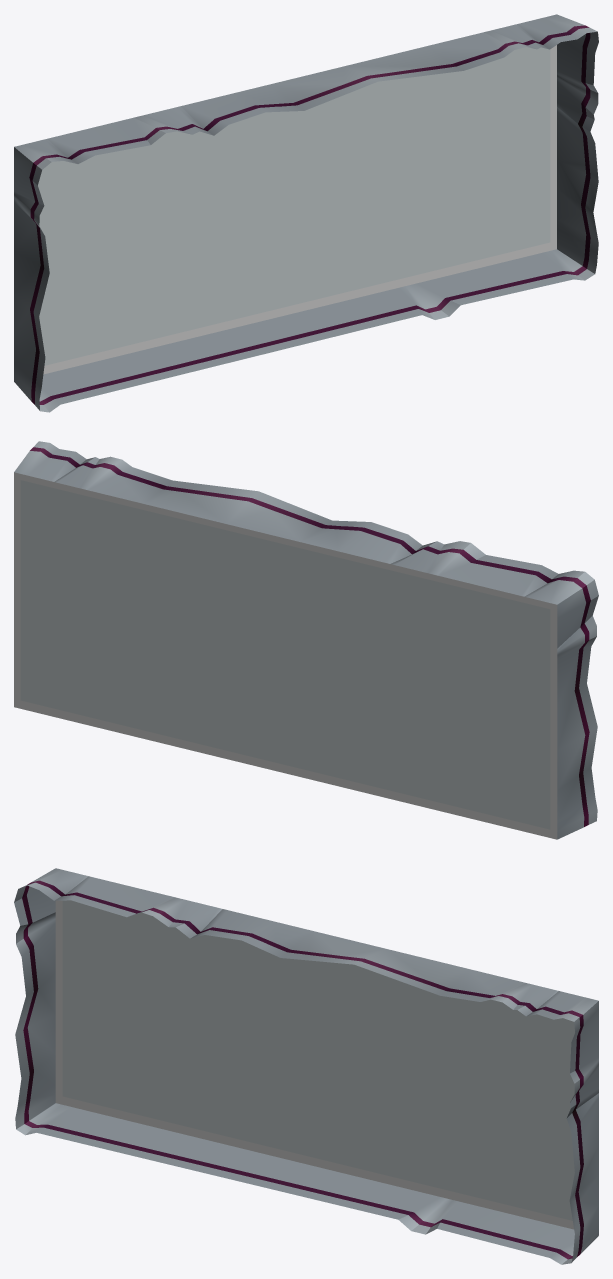
File: HolidayTableLong.fbx
3 renders of one model, top to bottom at view 1: azimuth 30°, elevation 25°; view 2: azimuth 150°, elevation 25°; view 3: azimuth 330°, elevation 25°, orthographic.
Visible parts, largest first — view 1: HolidayTableLong; view 2: HolidayTableLong; view 3: HolidayTableLong.
Boxes of the visible parts, x1,y1,x2,y2 form: HolidayTableLong: (14,14,598,412); HolidayTableLong: (14,441,598,839); HolidayTableLong: (14,868,598,1264).
Size of the model in its own units: 491 by 211 by 50.05.
